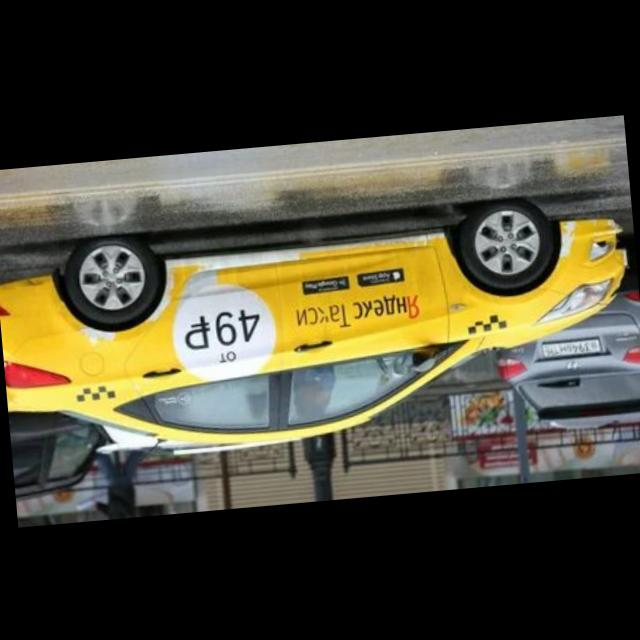taxi: (1, 189, 640, 470)
